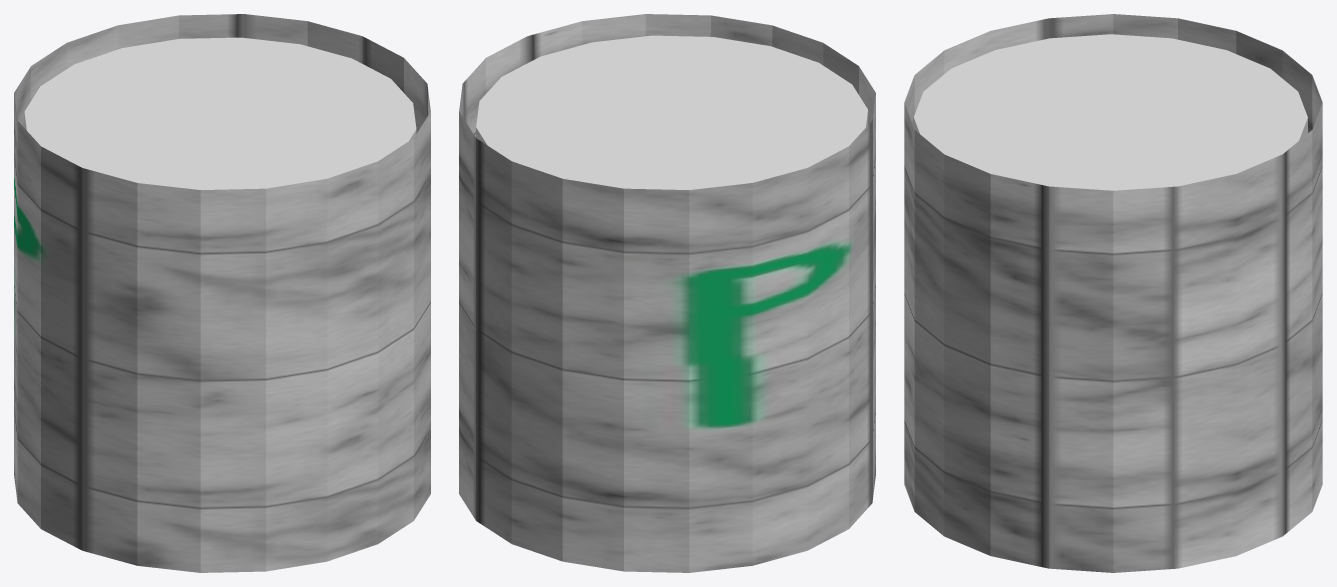
The model's file is plasma_container.fbx.
3 views of the same model, side by side, from view 1: azimuth 30°, elevation 25°; view 2: azimuth 150°, elevation 25°; view 3: azimuth 270°, elevation 25° (orthographic).
Parts seen in each view (by area): view 1: polySurface1; view 2: polySurface1; view 3: polySurface1.
Boxes of the visible parts, box(x1,y1,x2,y2) form: polySurface1: box(14, 14, 430, 572); polySurface1: box(459, 14, 875, 572); polySurface1: box(904, 14, 1322, 572).
Bounding box in the file's own units: 7.33 × 7.39 × 7.33.
Materials: 2 (1 with a texture image).
